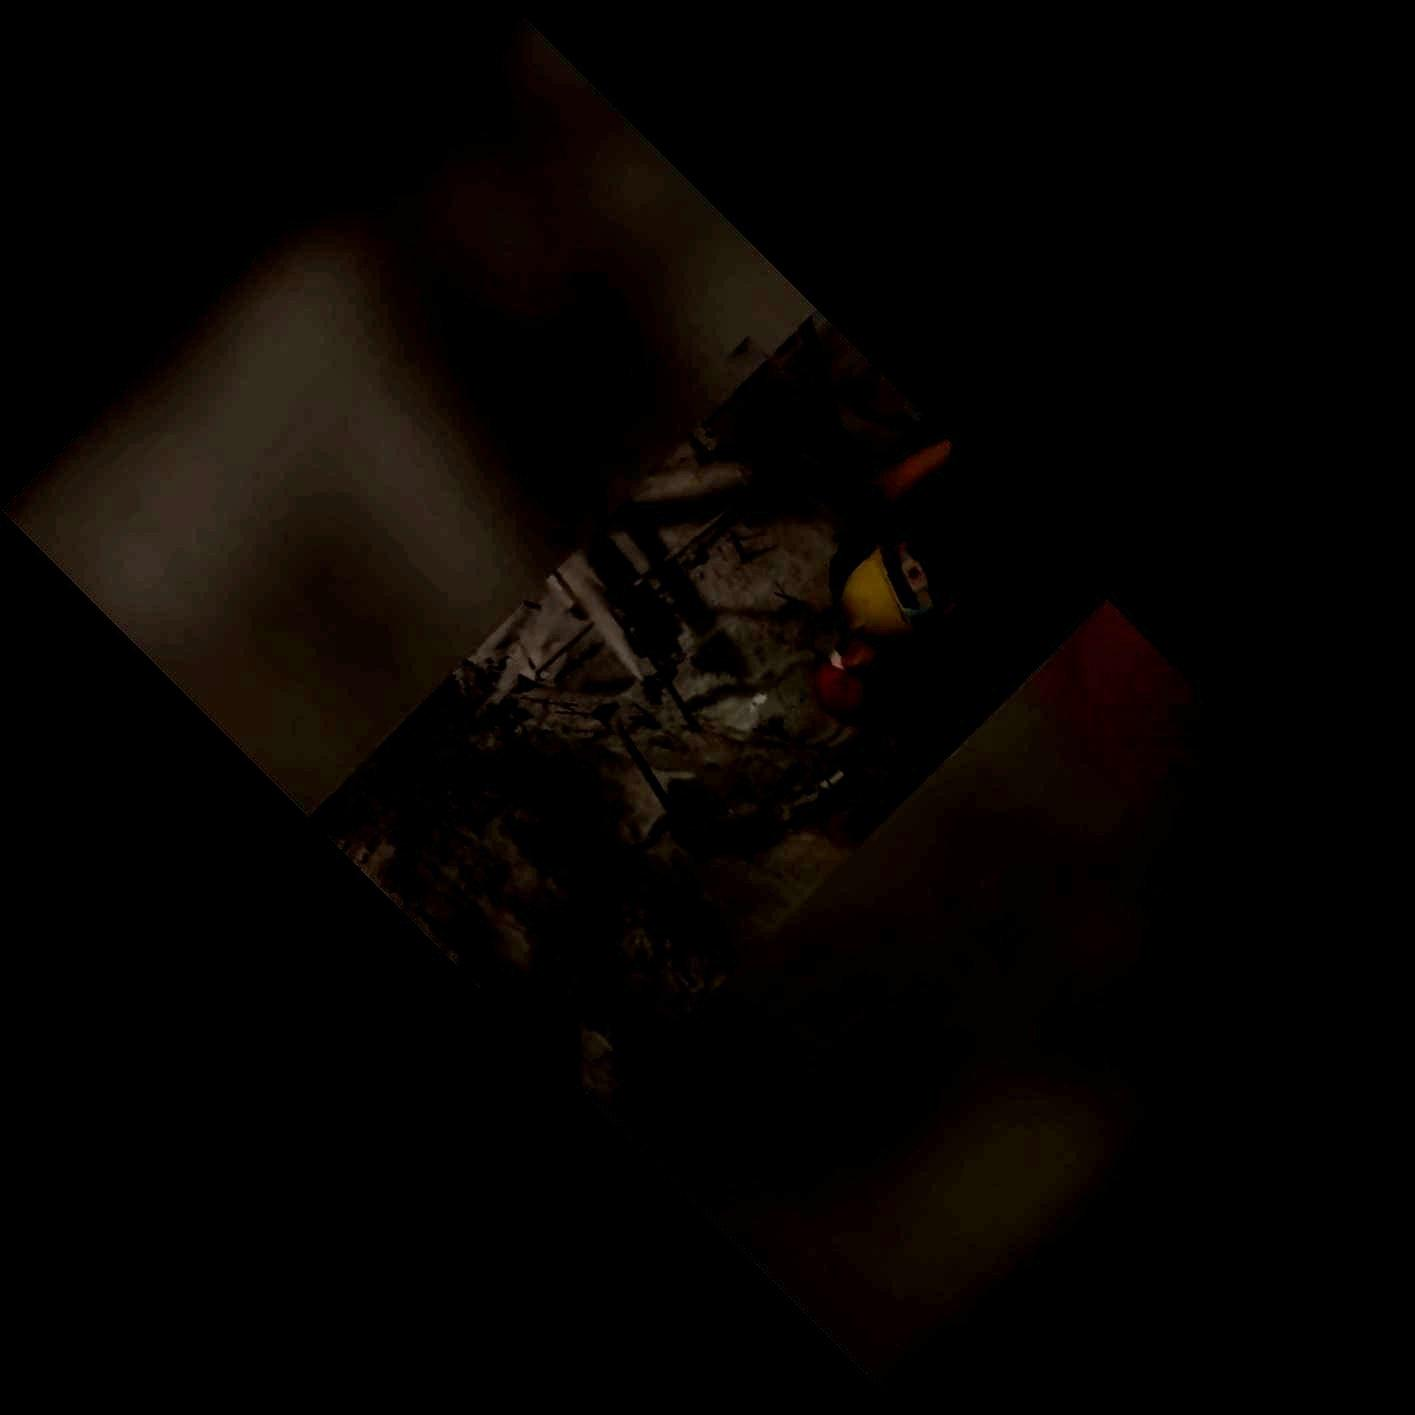helmet: (838, 540, 967, 652)
